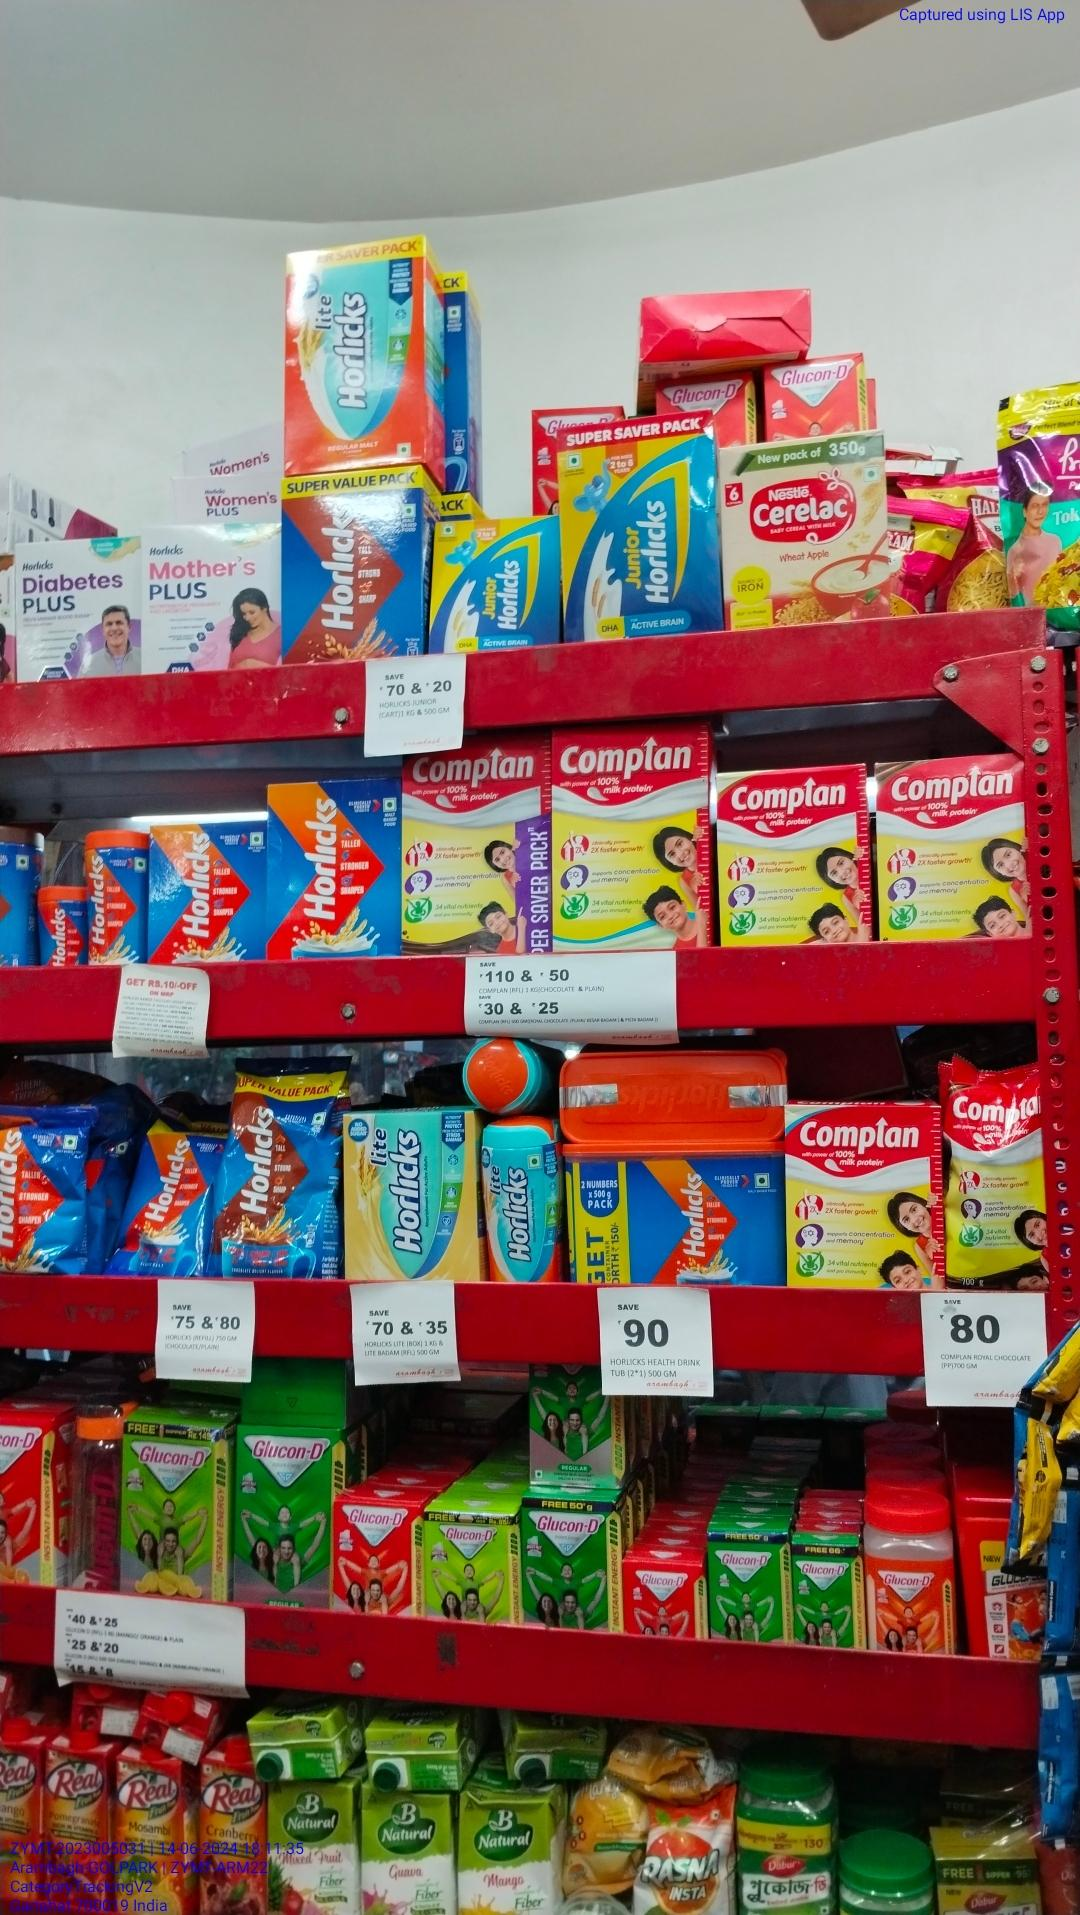COMPLAN_CHOCOLATE_1_KG_PACK: (401, 752, 550, 955)
COMPLAN_CHOCOLATE_500_GMS_PACK: (875, 756, 1030, 938)
COMPLAN_CREAMY_CLASSIC_500_G_PACK: (784, 1103, 946, 1285)
COMPLAN_KESAR_BADAM_500_GMS_PACK: (718, 764, 867, 946)
COMPLAN_RC_POUCH_700_GMS_12: (947, 1067, 1044, 1290)
HORLICKS_LITE_REGULAR_MALT_500_GM_JAR: (480, 1117, 560, 1282)
HORLICK_CHOCOLATE_1_KG_PACK: (279, 471, 422, 651)
HORLICK_CHOCOLATE_750_G_POUCH: (216, 1060, 338, 1278)
HORLICK_CLASSIC_MALT_200_G_JAR: (39, 884, 86, 968)
HORLICK_CLASSIC_MALT_500_G_JAR: (84, 826, 142, 964)
HORLICK_CLASSIC_MALT_500_G_PACK: (267, 779, 399, 956), (147, 823, 263, 959)
HORLICK_MALT_1_KG_CONTAINER: (566, 1143, 781, 1284)
